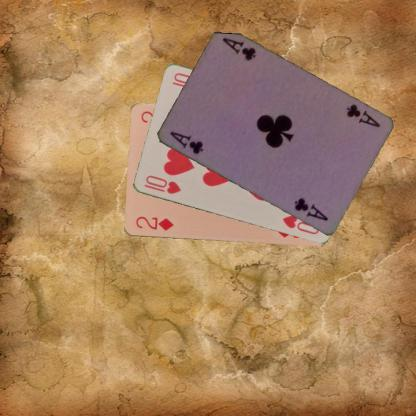10h: (141, 173, 182, 196)
2d: (133, 214, 174, 232)
Ac: (166, 127, 204, 156), (343, 101, 381, 129)
